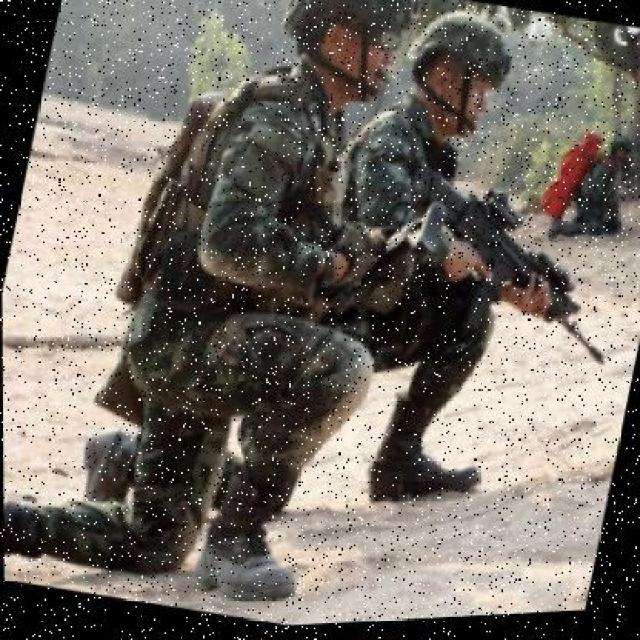MIL_Pax: (38, 0, 414, 609), (294, 0, 554, 525), (527, 109, 640, 275)
